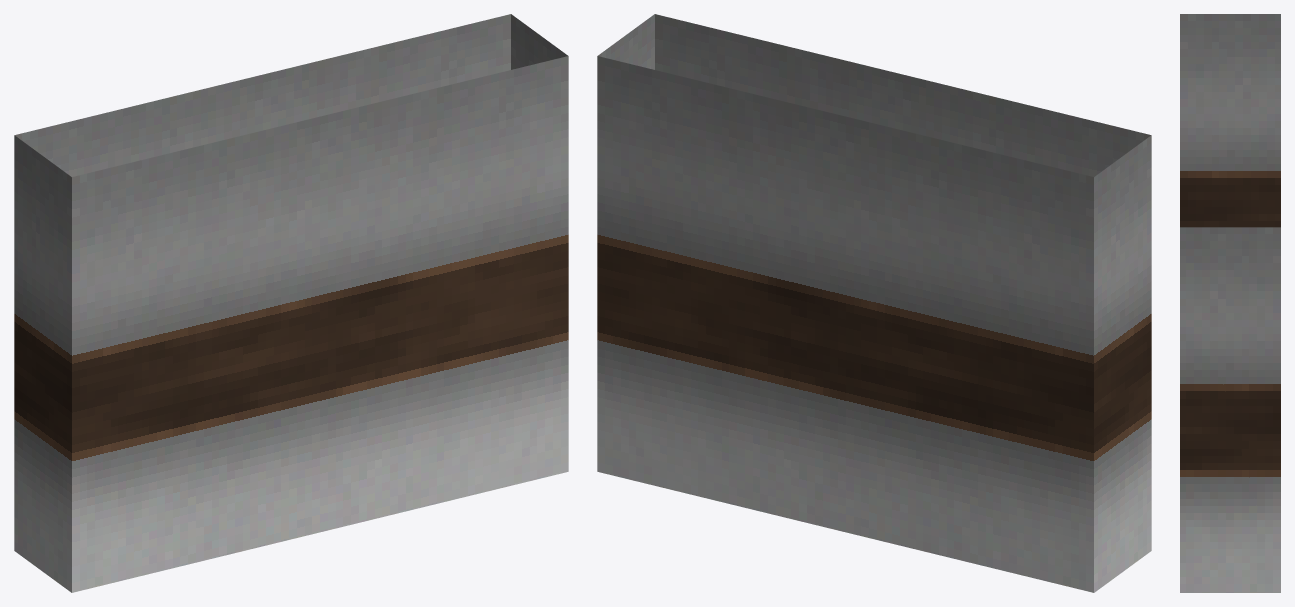
Rendered from house_passage_head_1.glb.
3 renders of one model, left to right at view 1: azimuth 30°, elevation 25°; view 2: azimuth 150°, elevation 25°; view 3: azimuth 270°, elevation 25°, orthographic. The views are drawn at different scales.
Parts seen in each view (by area): view 1: house_passage_head_1; view 2: house_passage_head_1; view 3: house_passage_head_1.
Boxes of the visible parts, x1=… form: house_passage_head_1: x1=14, y1=14, x2=568, y2=592; house_passage_head_1: x1=597, y1=14, x2=1151, y2=592; house_passage_head_1: x1=1180, y1=14, x2=1280, y2=592.
Bounding box in the file's own units: 1 × 0.8 × 0.2.
Materials: 1 (1 with a texture image).
